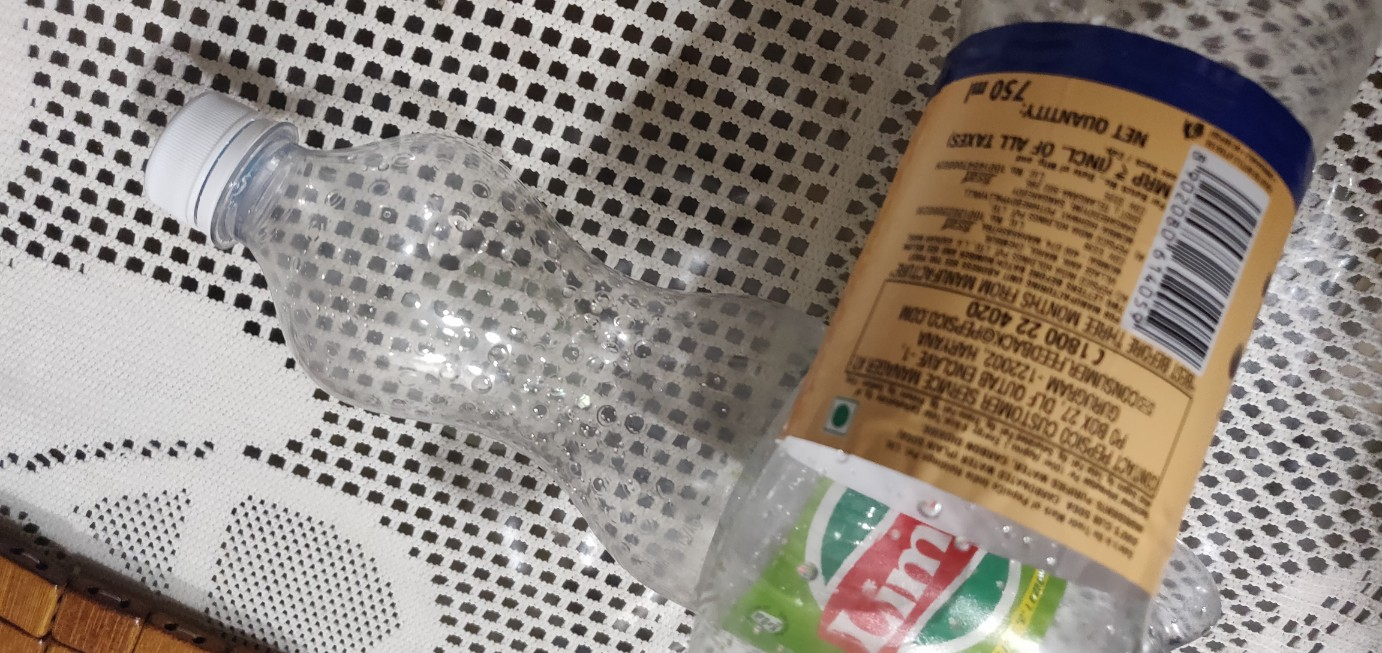Electronics: (112, 70, 1248, 653)
